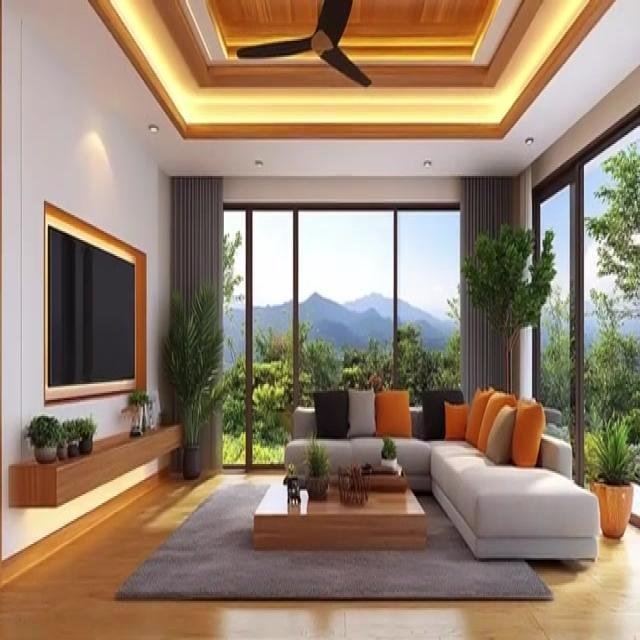obstacle: (284, 386, 599, 564), (252, 476, 427, 550)
